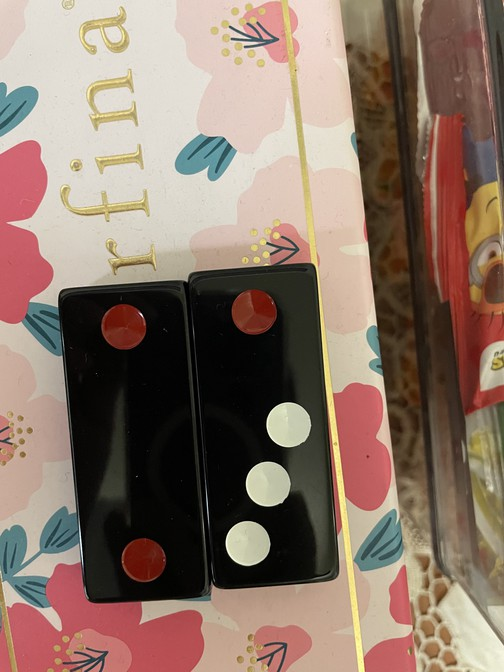earth: (59, 280, 212, 606)
goose: (187, 264, 349, 589)
